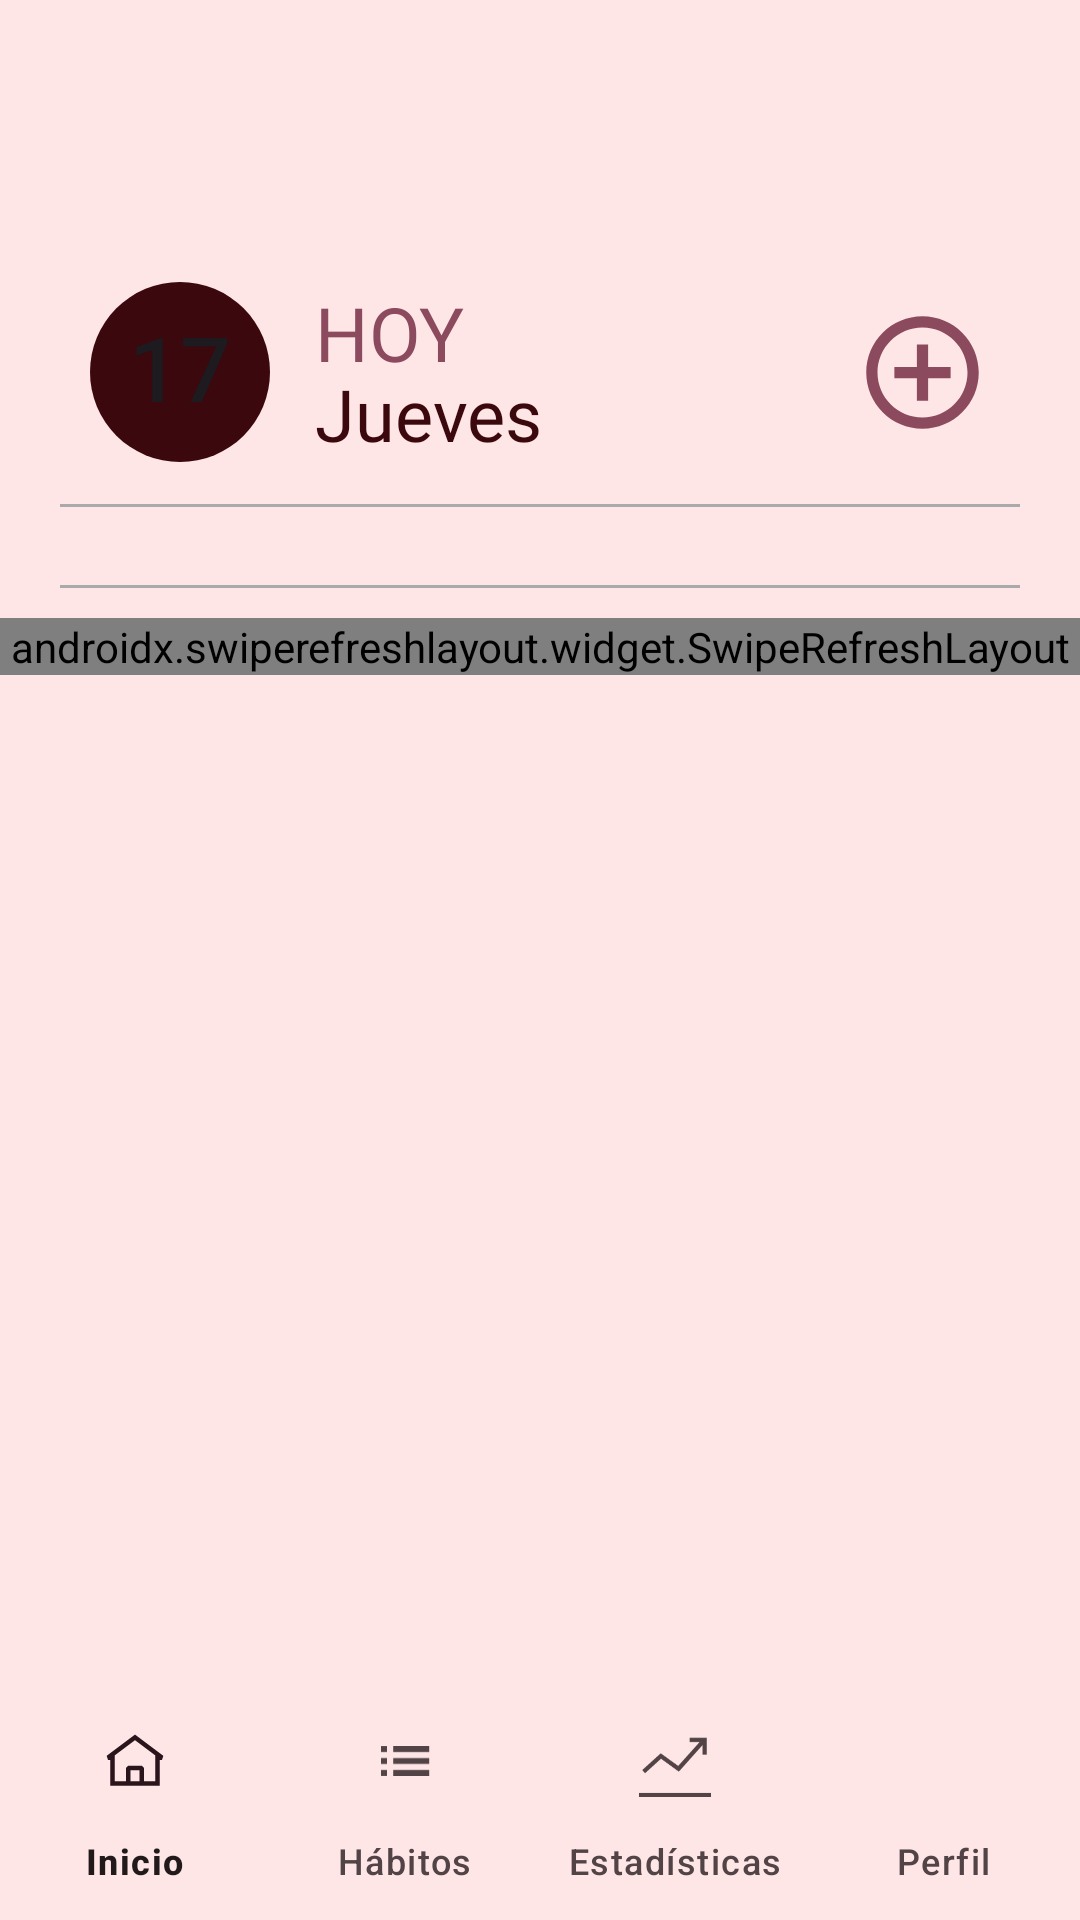

Point at icon controls on the screen. Image size 1080 × 1920, points as [x,y].
add: [922,372]
